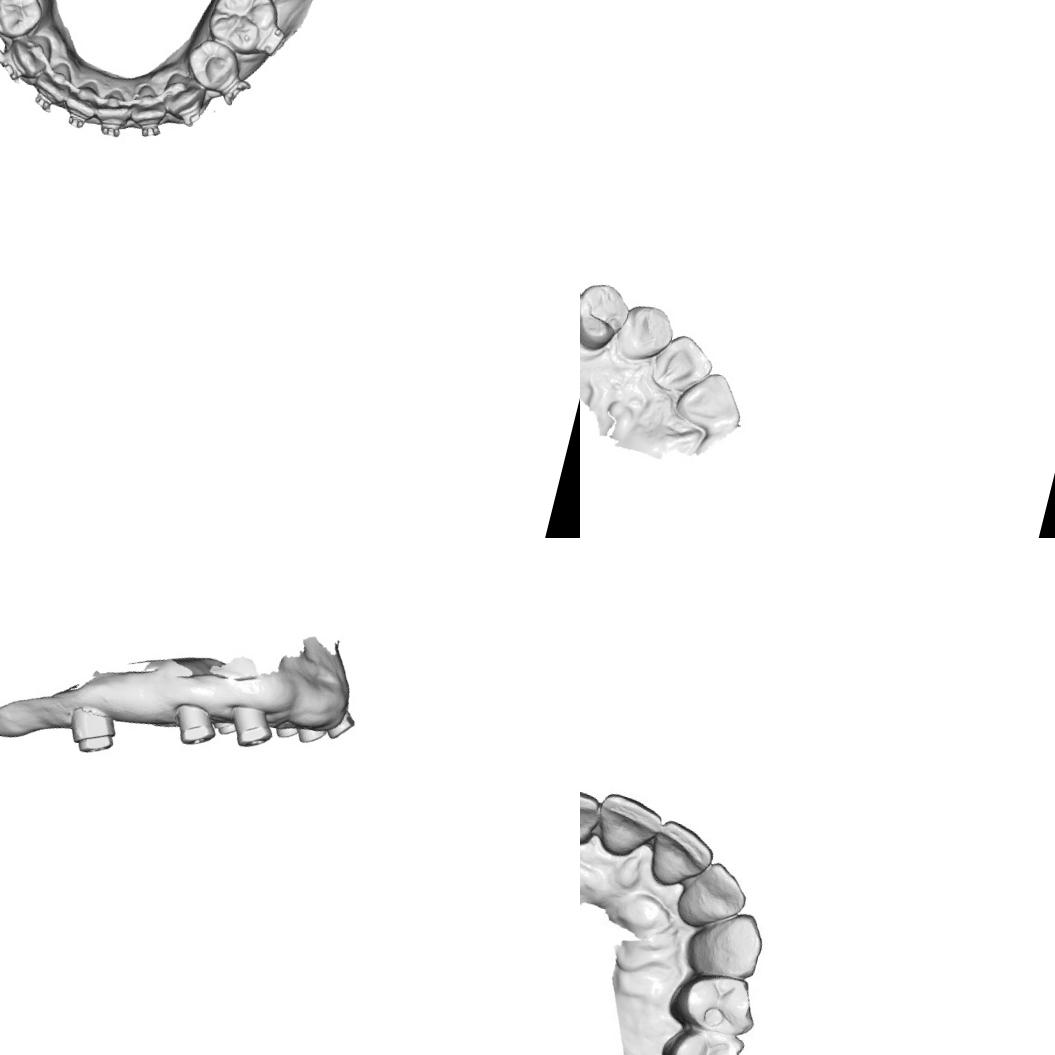canine: (676, 897, 773, 988), (612, 297, 680, 370), (155, 67, 210, 128), (1, 27, 55, 84)
implant: (61, 700, 121, 760), (222, 698, 278, 754), (166, 698, 222, 752), (326, 705, 360, 744), (294, 722, 330, 750), (273, 720, 300, 742)
incisor: (588, 788, 670, 872), (669, 858, 748, 938), (669, 362, 750, 437), (646, 327, 719, 402), (644, 817, 716, 893), (28, 54, 78, 112), (125, 79, 175, 132), (91, 82, 139, 133), (60, 72, 104, 123), (580, 782, 610, 852)
molar: (201, 0, 282, 58)
premolar: (660, 958, 766, 1044), (178, 32, 248, 98), (580, 276, 635, 357), (653, 1018, 751, 1055), (0, 0, 48, 45)
